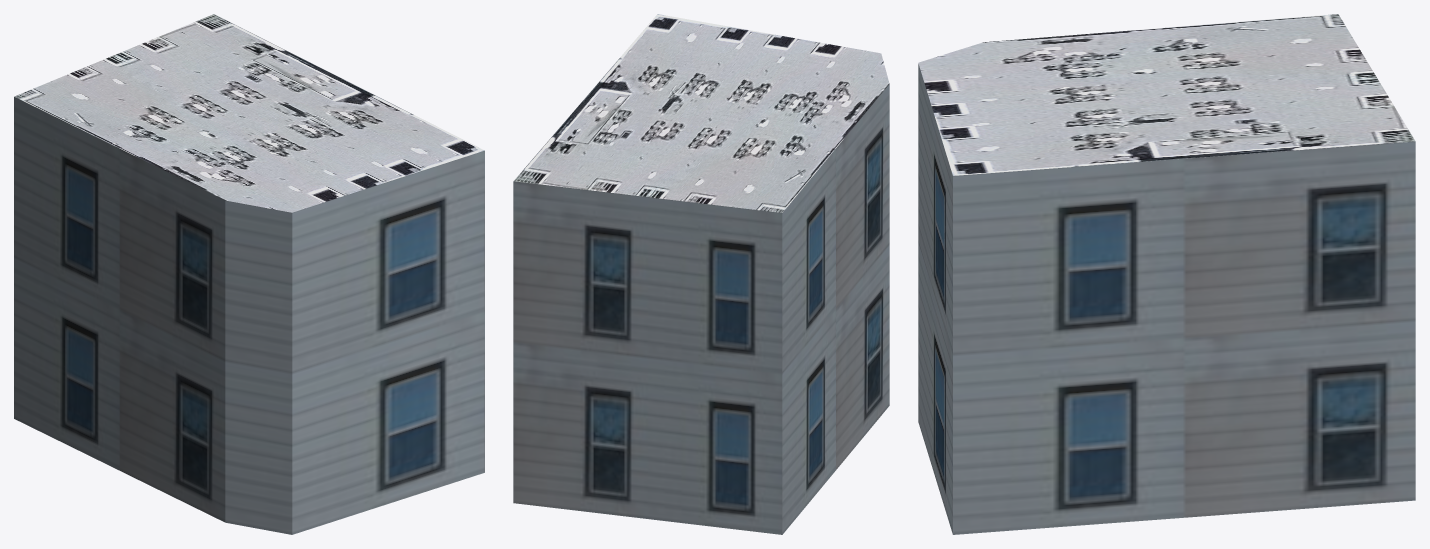
File: ResTex__2635.fbx
The picture shows the model from 3 angles, left to right: view 1: azimuth 30°, elevation 25°; view 2: azimuth 150°, elevation 25°; view 3: azimuth 270°, elevation 25°; orthographic projection. The views are drawn at different scales.
Parts seen in each view (by area): view 1: CityEngineMaterial_18_m, CityEngineMaterial_8_m; view 2: CityEngineMaterial_18_m, CityEngineMaterial_8_m; view 3: CityEngineMaterial_18_m, CityEngineMaterial_8_m.
Boxes of the visible parts, <box> form: CityEngineMaterial_18_m: <box>14,97,484,534</box>; CityEngineMaterial_8_m: <box>14,14,484,212</box>; CityEngineMaterial_18_m: <box>513,84,889,534</box>; CityEngineMaterial_8_m: <box>514,14,889,212</box>; CityEngineMaterial_18_m: <box>918,64,1415,534</box>; CityEngineMaterial_8_m: <box>918,14,1415,175</box>.
Bounding box in the file's own units: 5.8 × 6 × 7.54.
2 materials, 2 textured.
